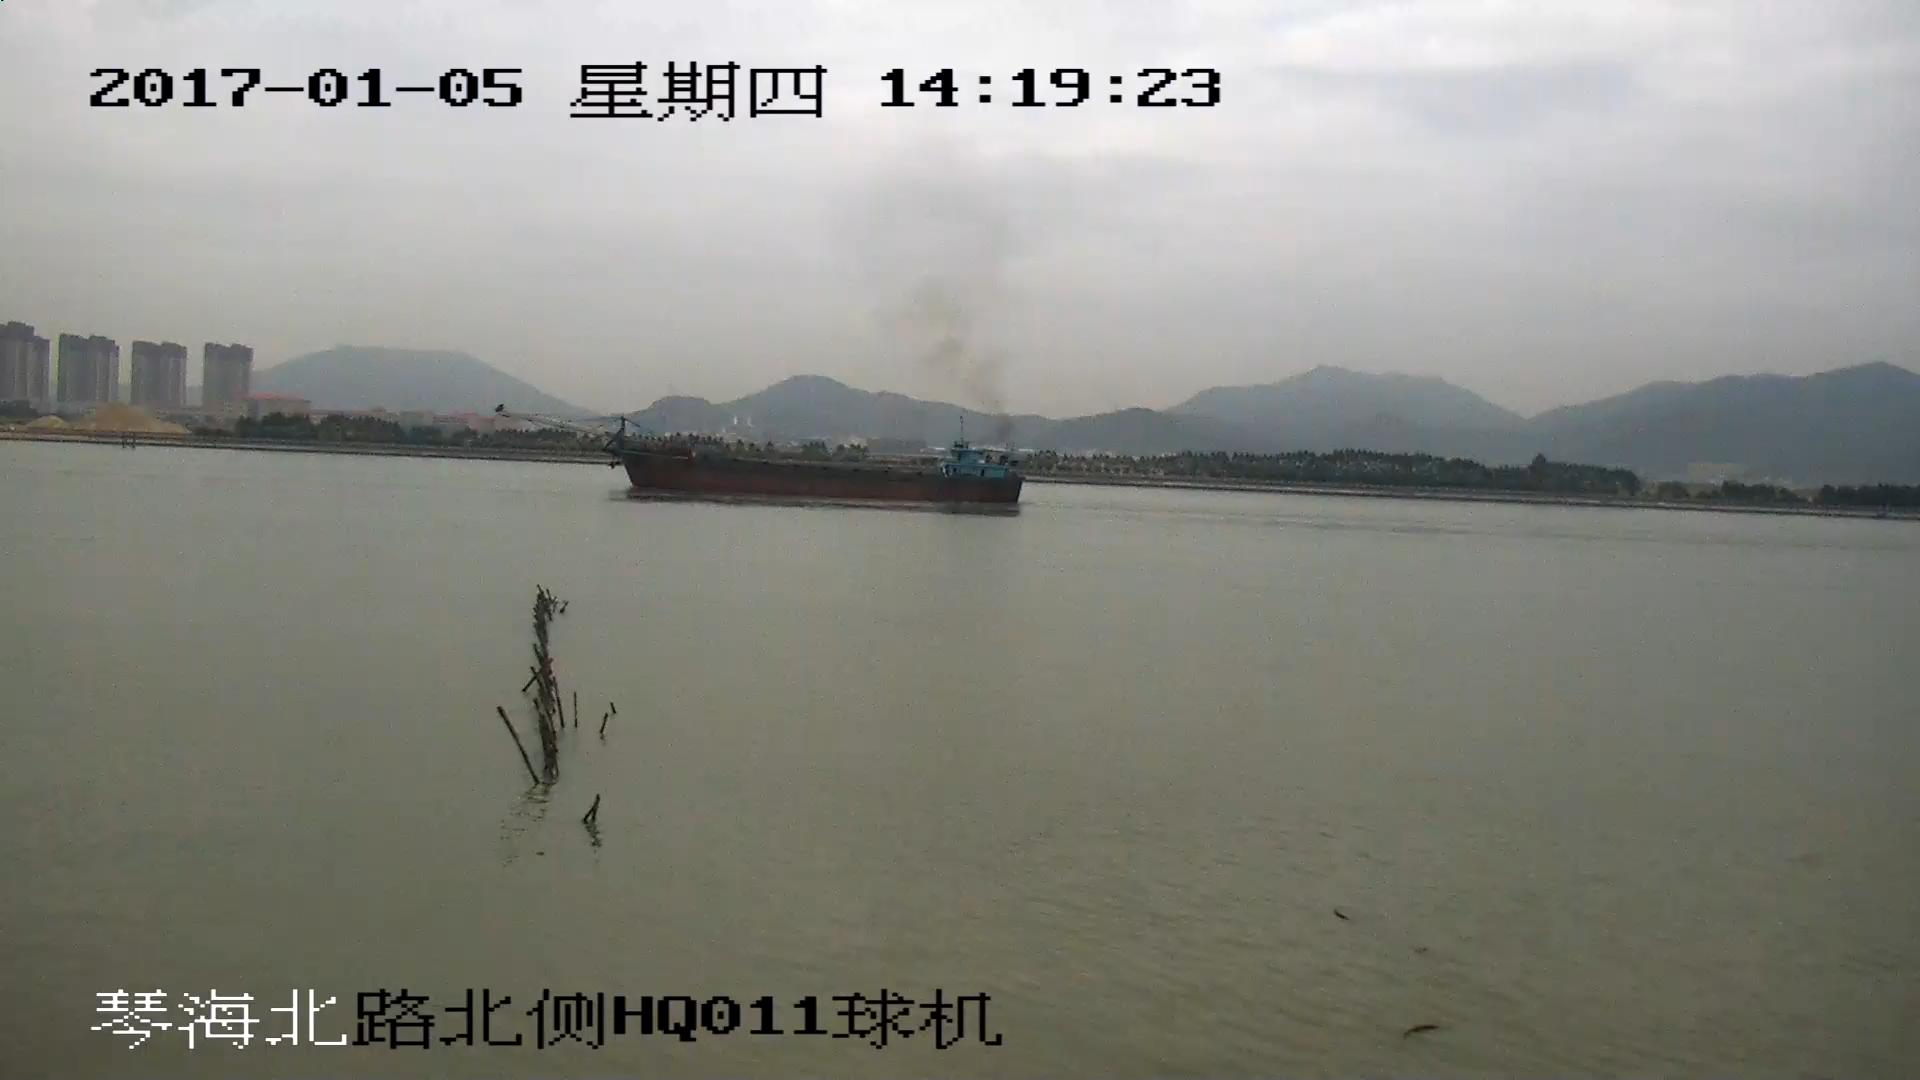bulk cargo carrier: (497, 405, 1020, 505)
